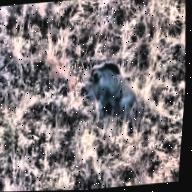boar: (74, 49, 149, 135)
